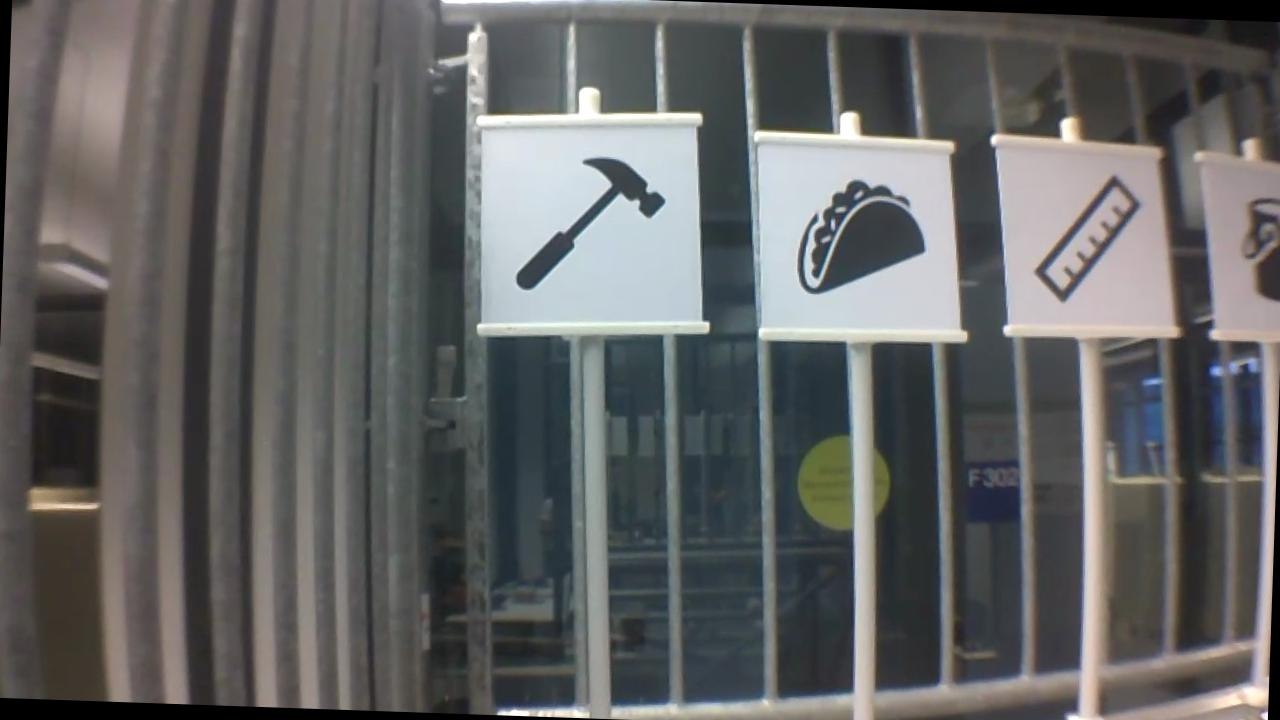hammer: (507, 149, 672, 297)
ruler: (1025, 165, 1147, 309)
taco: (792, 172, 932, 303)
